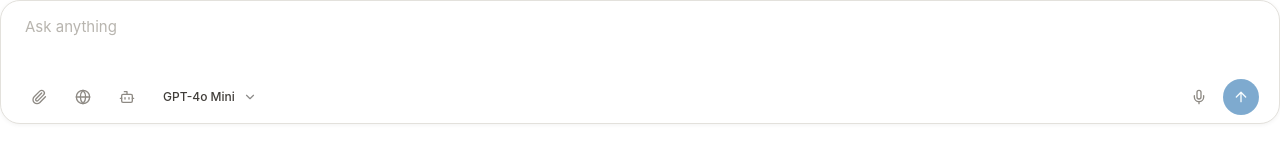
Test: ChatComposer › advertises only the narrowed attachment allowlist in the attachment tooltip
Hover over the button named "Attach files" at (39, 97), box [21,79,57,115]
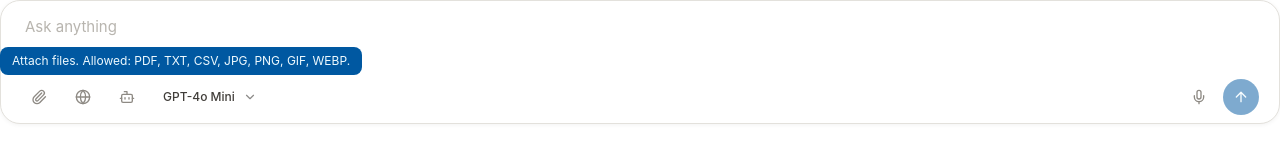
Expected: the tooltip reads "Attach files. Allowed: PDF, TXT, CSV, JPG, PNG, GIF, WEBP.", [12,53,350,68]
